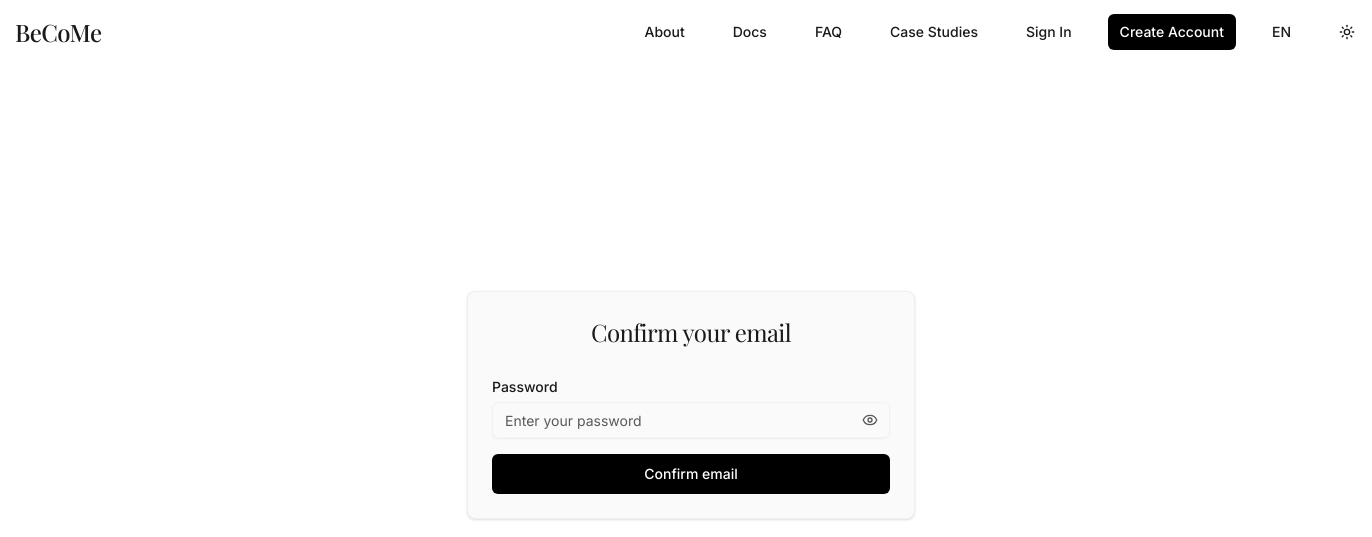
Scenario: VerifyEmail › replaces the form with a login link on a 400 (unusable link)
In the password field with placeholder "Enter your password": point(691, 420) [492,402,890,438], type "CorrectHorse123!"
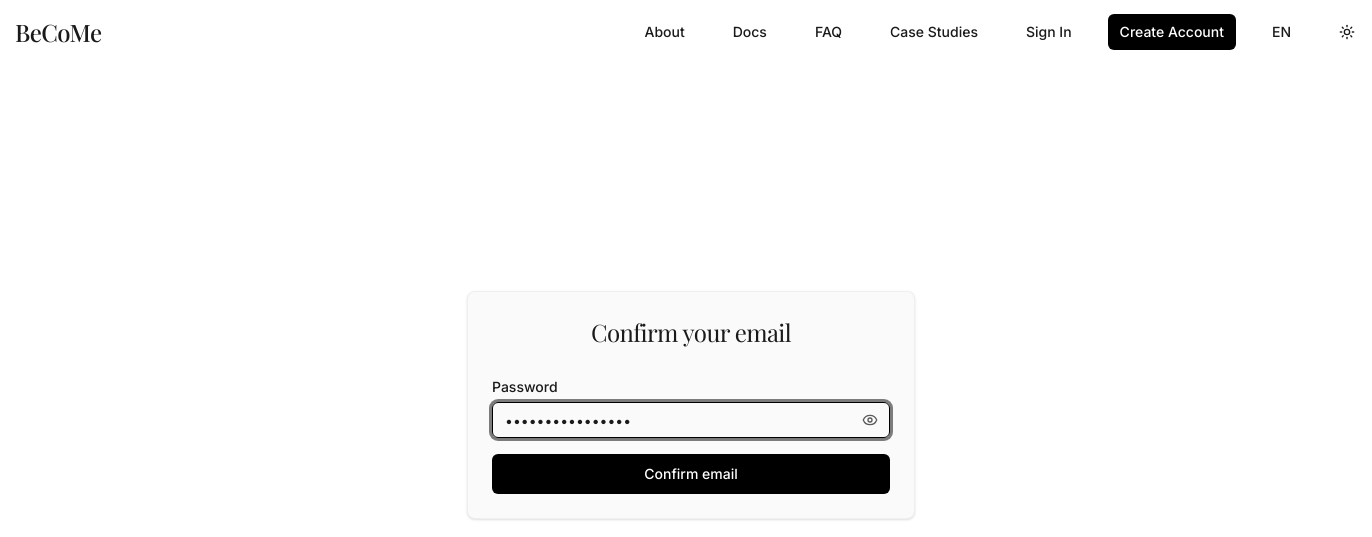
Click the button "Confirm email": point(691, 474) [492,454,890,494]
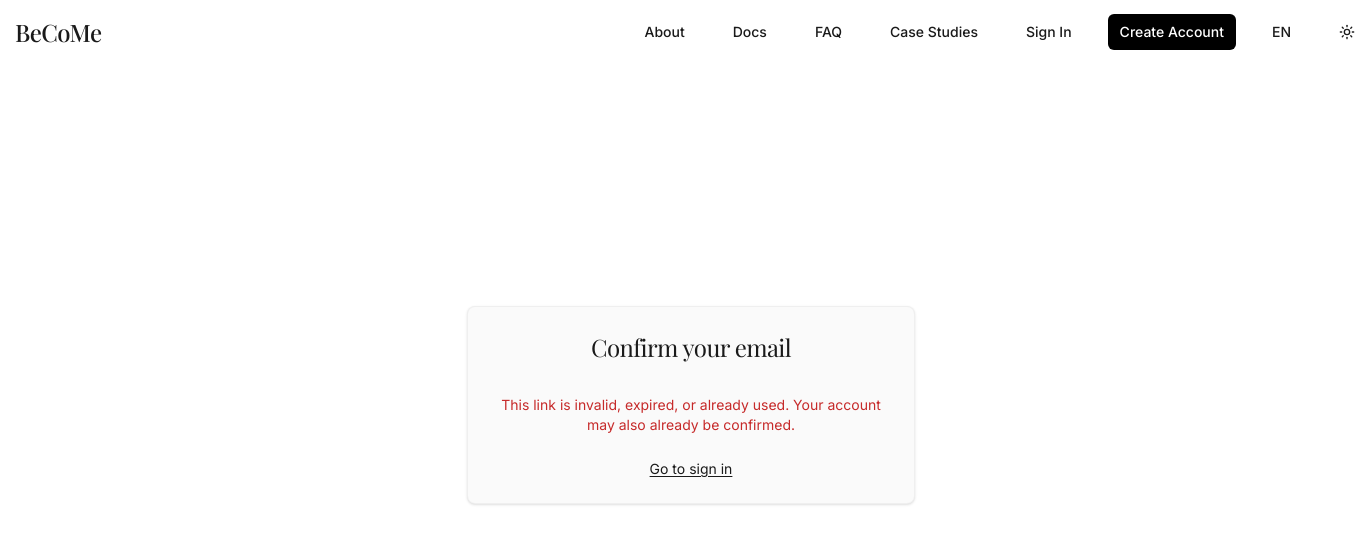
Check: the link "Sign In" is shown, box [1026,23,1072,40]
Check: the label with placeholder "Enter your password" is gone
